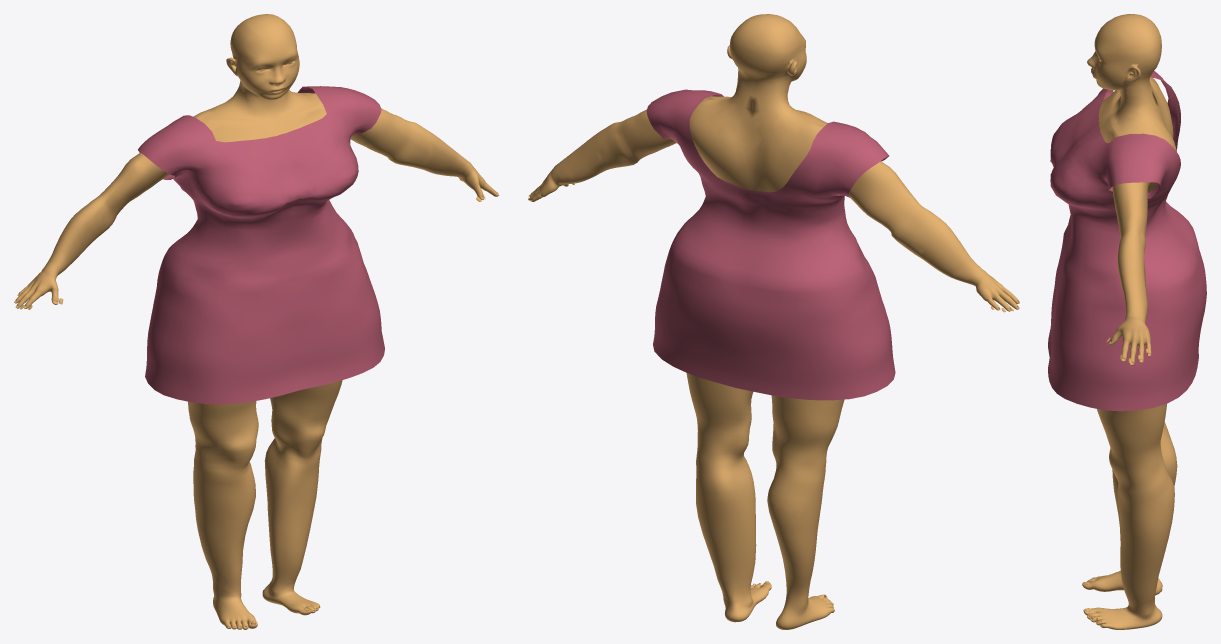
The model's file is dress7.glb.
3 renders of one model, left to right at view 1: azimuth 30°, elevation 25°; view 2: azimuth 150°, elevation 25°; view 3: azimuth 270°, elevation 25°, orthographic.
Visible parts, largest first — view 1: Jennifer.F_Dress_01, Body; view 2: Body, Jennifer.F_Dress_01; view 3: Jennifer.F_Dress_01, Body.
Boxes of the visible parts, left/top/right/bottom form: Jennifer.F_Dress_01: left=138, top=86, right=384, bottom=404; Body: left=14, top=14, right=499, bottom=629; Body: left=528, top=14, right=1019, bottom=629; Jennifer.F_Dress_01: left=646, top=89, right=895, bottom=400; Jennifer.F_Dress_01: left=1048, top=71, right=1206, bottom=411; Body: left=1082, top=14, right=1177, bottom=629.
Size of the model in its own units: 1.6 by 1.88 by 0.4539.
